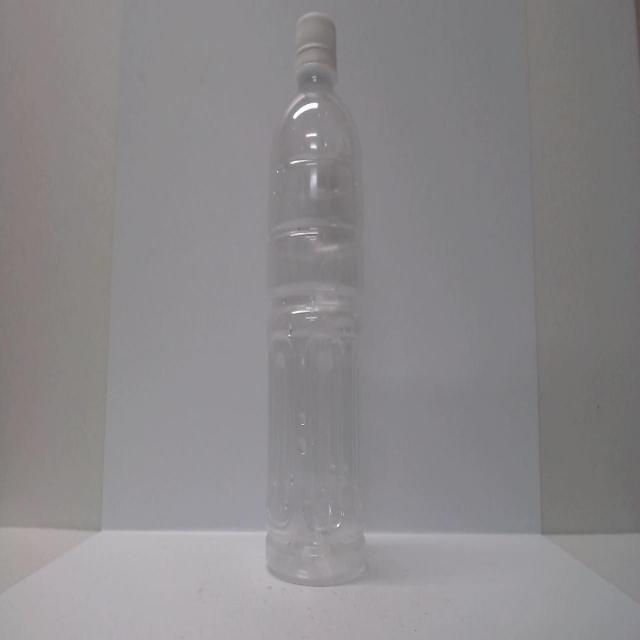bottle: (248, 2, 384, 600)
